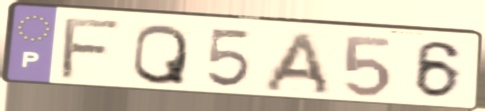5: (339, 34, 398, 99), (204, 25, 254, 89)
6: (409, 39, 465, 102)
A: (258, 29, 334, 97)
F: (56, 17, 127, 82)
Q: (128, 22, 191, 87)
